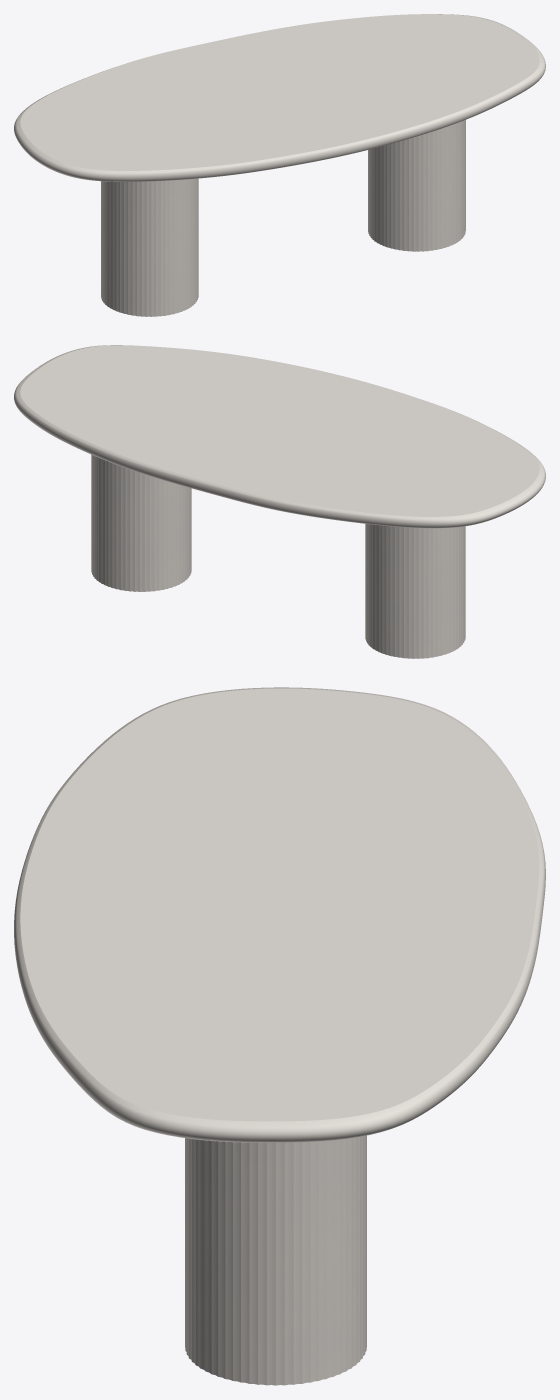
Rendered from pearlwhite_danish_round_ripplesecond.glb.
3 renders of one model, top to bottom at view 1: azimuth 30°, elevation 25°; view 2: azimuth 150°, elevation 25°; view 3: azimuth 270°, elevation 25°, orthographic. The views are drawn at different scales.
Parts seen in each view (by area): view 1: round_danish, ripplesecond; view 2: round_danish, ripplesecond; view 3: round_danish, ripplesecond.
Part boxes in pixels (x1=…): round_danish: x1=14, y1=14, x2=545, y2=181; ripplesecond: x1=101, y1=120, x2=465, y2=316; round_danish: x1=14, y1=345, x2=545, y2=528; ripplesecond: x1=91, y1=454, x2=465, y2=658; round_danish: x1=14, y1=687, x2=545, y2=1142; ripplesecond: x1=185, y1=1135, x2=366, y2=1385.
Bounding box in the file's own units: 7.5 × 2.51 × 3.8.
Materials: 1 (1 with a texture image).
